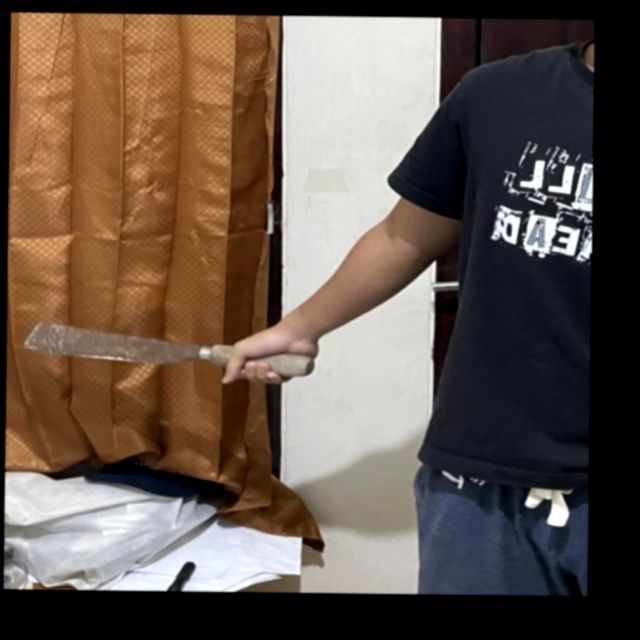Sharp-Object: (19, 317, 319, 379)
